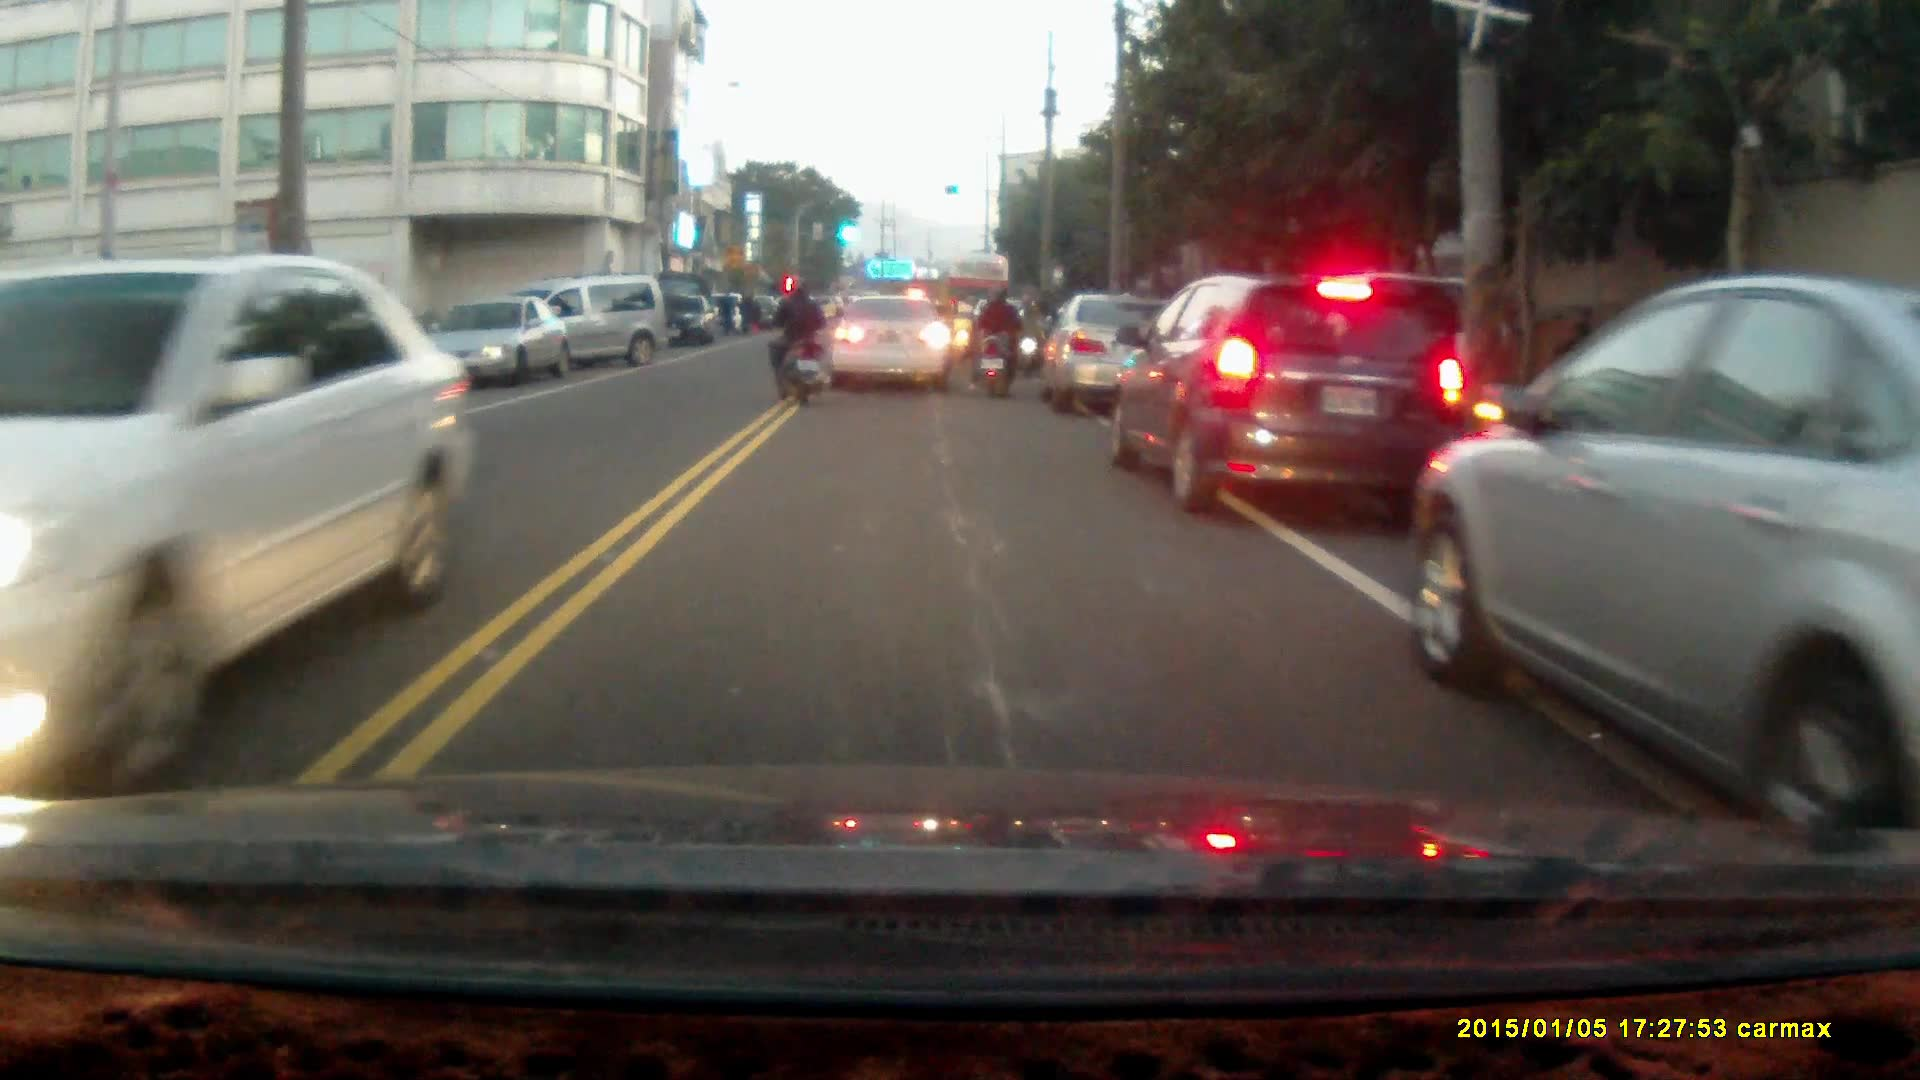rider: (765, 277, 825, 402), (967, 278, 1025, 399)
vehicle: (1414, 268, 1920, 842), (1, 257, 499, 814), (1100, 266, 1467, 512), (409, 289, 574, 389), (1045, 294, 1172, 414), (521, 272, 668, 371), (831, 289, 950, 396), (662, 292, 717, 345)
